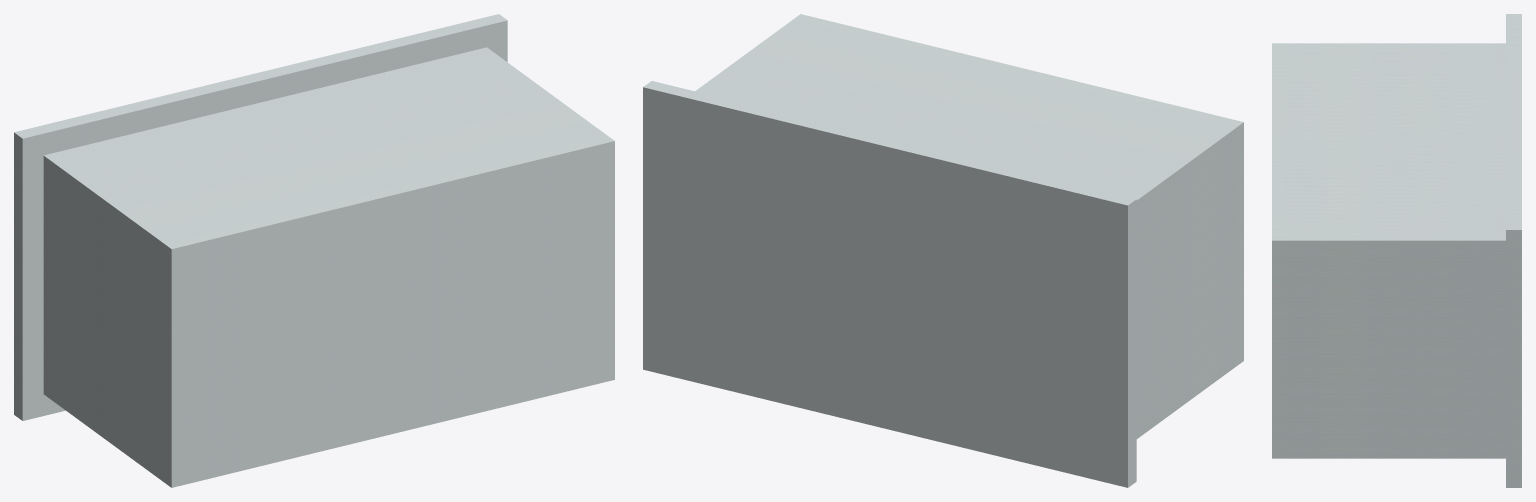
File: fs045-geode.glb
3 views of the same model, side by side, from view 1: azimuth 30°, elevation 25°; view 2: azimuth 150°, elevation 25°; view 3: azimuth 270°, elevation 25° (orthographic). The views are drawn at different scales.
Parts seen in each view (by area): view 1: Node; view 2: Node; view 3: Node.
Boxes of the visible parts, x1,y1,x2,y2 form: Node: (14, 14, 614, 487); Node: (643, 14, 1243, 487); Node: (1272, 14, 1521, 487).
Size of the model in its own units: 0.1288 by 0.0717 by 0.0629.
Materials: 1 (1 with a texture image).
